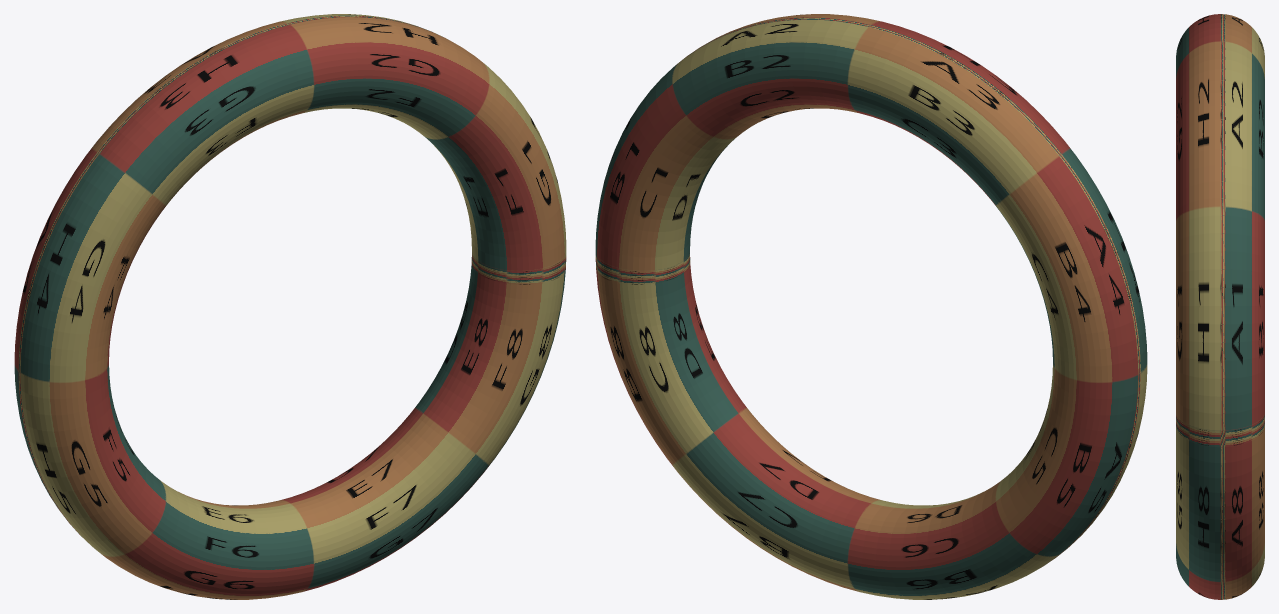
File: texture_torus_R5_r2.glb
The picture shows the model from 3 angles, left to right: view 1: azimuth 30°, elevation 25°; view 2: azimuth 150°, elevation 25°; view 3: azimuth 270°, elevation 25°; orthographic projection. The views are drawn at different scales.
Visible parts, largest first — view 1: world; view 2: world; view 3: world.
Part boxes in pixels (box(x1,y1,x2,y2)): world: box(14, 14, 566, 599); world: box(595, 14, 1147, 599); world: box(1176, 14, 1264, 599).
Bounding box in the file's own units: 24.89 × 24.89 × 3.77.
Materials: 1 (1 with a texture image).
